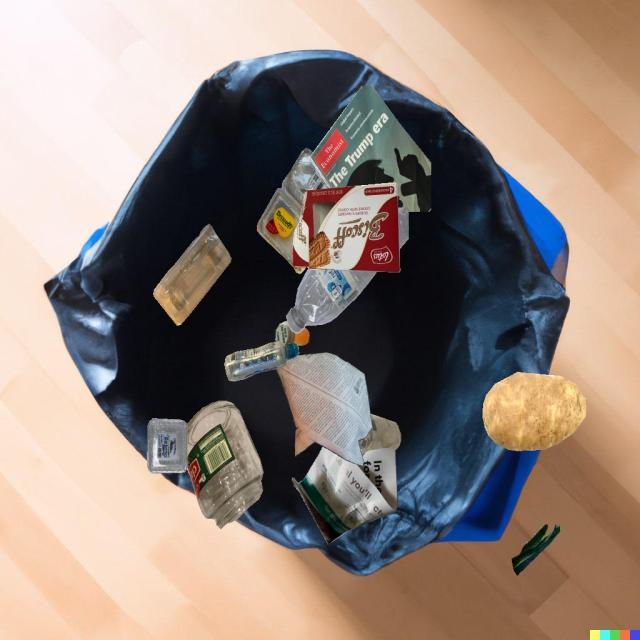biowaste: (482, 372, 586, 451), (511, 524, 560, 575)
cardboard: (293, 183, 400, 272)
glass: (187, 400, 263, 529), (358, 414, 401, 457)
paper: (310, 86, 431, 212), (276, 352, 373, 466), (292, 446, 398, 544)
plastic: (257, 148, 329, 274), (153, 224, 231, 325), (286, 268, 377, 333), (225, 341, 299, 381), (147, 418, 187, 474), (275, 321, 310, 346)
